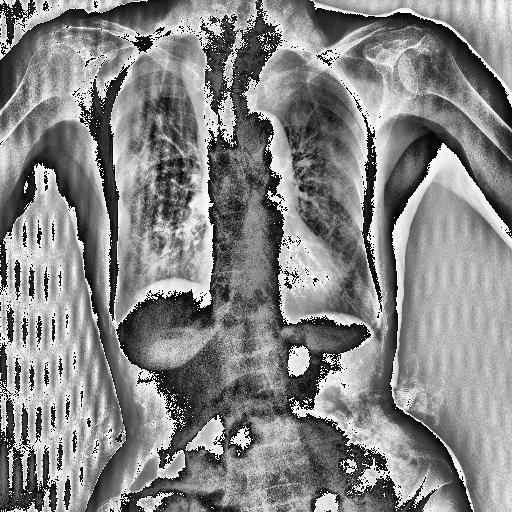0- Aortic enlargement: (229, 111, 301, 197)
1- Atelectasis: (176, 47, 210, 158)
9- Other lesion: (204, 284, 294, 440)
